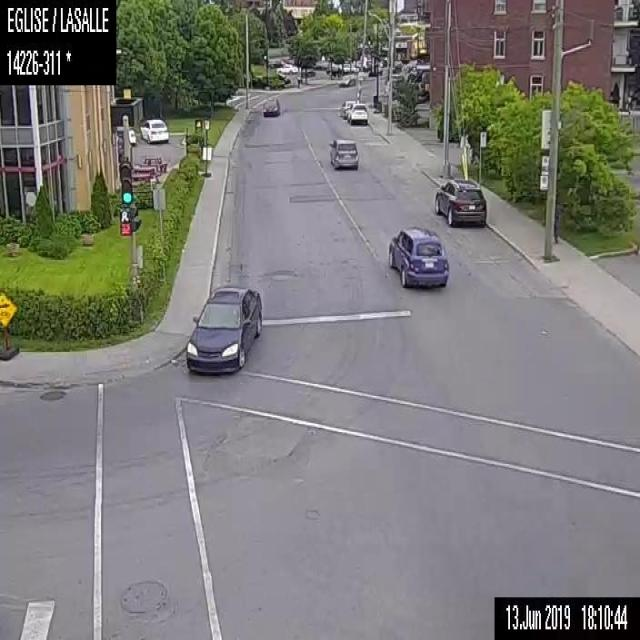vehicle: (185, 284, 263, 375), (386, 225, 449, 287), (434, 178, 486, 225), (328, 136, 359, 169), (138, 118, 168, 144), (347, 103, 367, 123), (262, 95, 279, 116), (339, 97, 356, 118), (276, 61, 298, 74), (337, 73, 356, 85)
